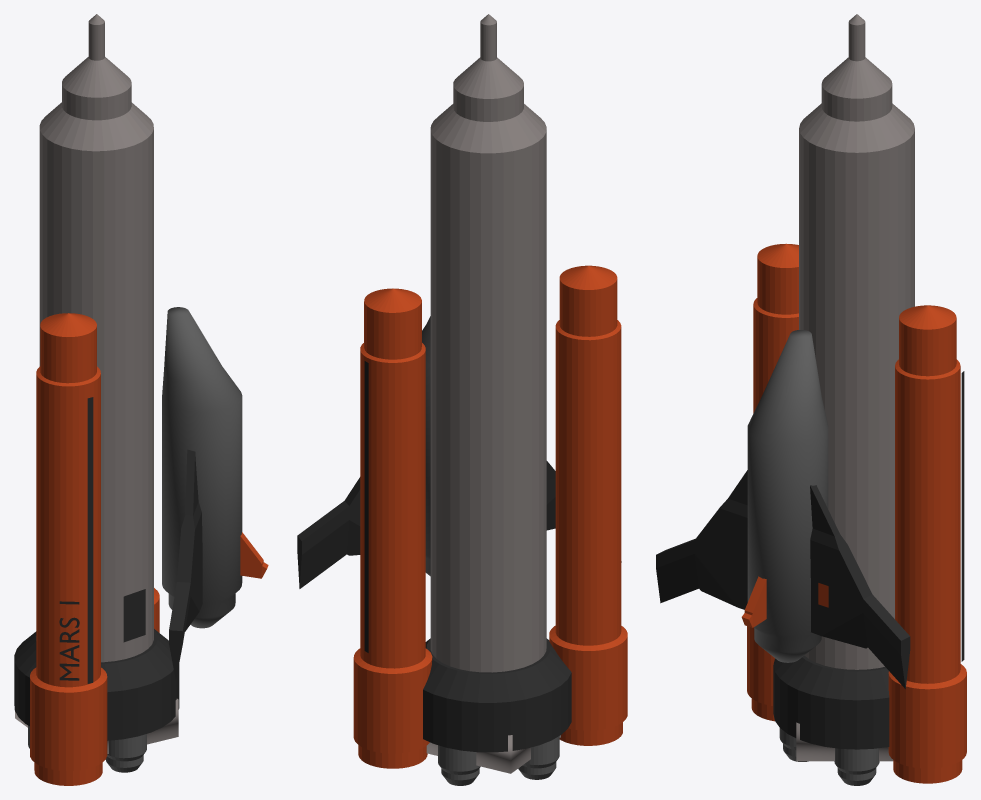
Rendered from rocket.glb.
The picture shows the model from 3 angles, left to right: view 1: azimuth 30°, elevation 25°; view 2: azimuth 150°, elevation 25°; view 3: azimuth 270°, elevation 25°; orthographic projection.
Parts seen in each view (by area): view 1: Cylinder, Cylinder.006, Cylinder.008, Cylinder.001, Cube.002, Plane, Cylinder.005, Plane.002, Cube.003, Text, Cube; view 2: Cylinder, Cylinder.006, Cylinder.007, Cylinder.001, Cube.001, Cylinder.008, Plane.001, Cylinder.004, Cube, Cylinder.003, Cube.002; view 3: Cylinder, Cylinder.007, Cylinder.008, Cylinder.001, Cube.001, Cylinder.006, Cube.002, Cylinder.002, Plane.001, Cube, Cube.003.
Part boxes in pixels (<box>): Cylinder: <box>39,14,153,662</box>; Cylinder.006: <box>30,313,107,785</box>; Cylinder.008: <box>162,307,242,628</box>; Cylinder.001: <box>14,629,179,740</box>; Cube.002: <box>169,449,202,680</box>; Plane: <box>87,397,93,683</box>; Cylinder.005: <box>105,734,146,772</box>; Plane.002: <box>123,589,145,642</box>; Cube.003: <box>240,532,268,578</box>; Text: <box>59,601,79,680</box>; Cube: <box>15,698,178,753</box>; Cylinder: <box>430,14,546,672</box>; Cylinder.006: <box>549,265,627,745</box>; Cylinder.007: <box>353,288,432,768</box>; Cylinder.001: <box>423,638,571,752</box>; Cube.001: <box>297,477,360,588</box>; Cylinder.008: <box>422,316,430,576</box>; Plane.001: <box>364,361,368,652</box>; Cylinder.004: <box>438,745,480,785</box>; Cube: <box>426,735,560,773</box>; Cylinder.003: <box>518,736,559,779</box>; Cube.002: <box>546,461,555,530</box>; Cylinder: <box>799,14,914,669</box>; Cylinder.007: <box>888,305,966,783</box>; Cylinder.008: <box>747,330,828,662</box>; Cylinder.001: <box>773,655,889,749</box>; Cube.001: <box>810,485,910,688</box>; Cylinder.006: <box>747,243,798,721</box>; Cube.002: <box>656,470,747,609</box>; Cylinder.002: <box>834,748,879,785</box>; Plane.001: <box>961,371,964,661</box>; Cube: <box>796,722,893,761</box>; Cube.003: <box>741,576,766,627</box>.
Size of the model in its own units: 53.12 by 142 by 53.66.
